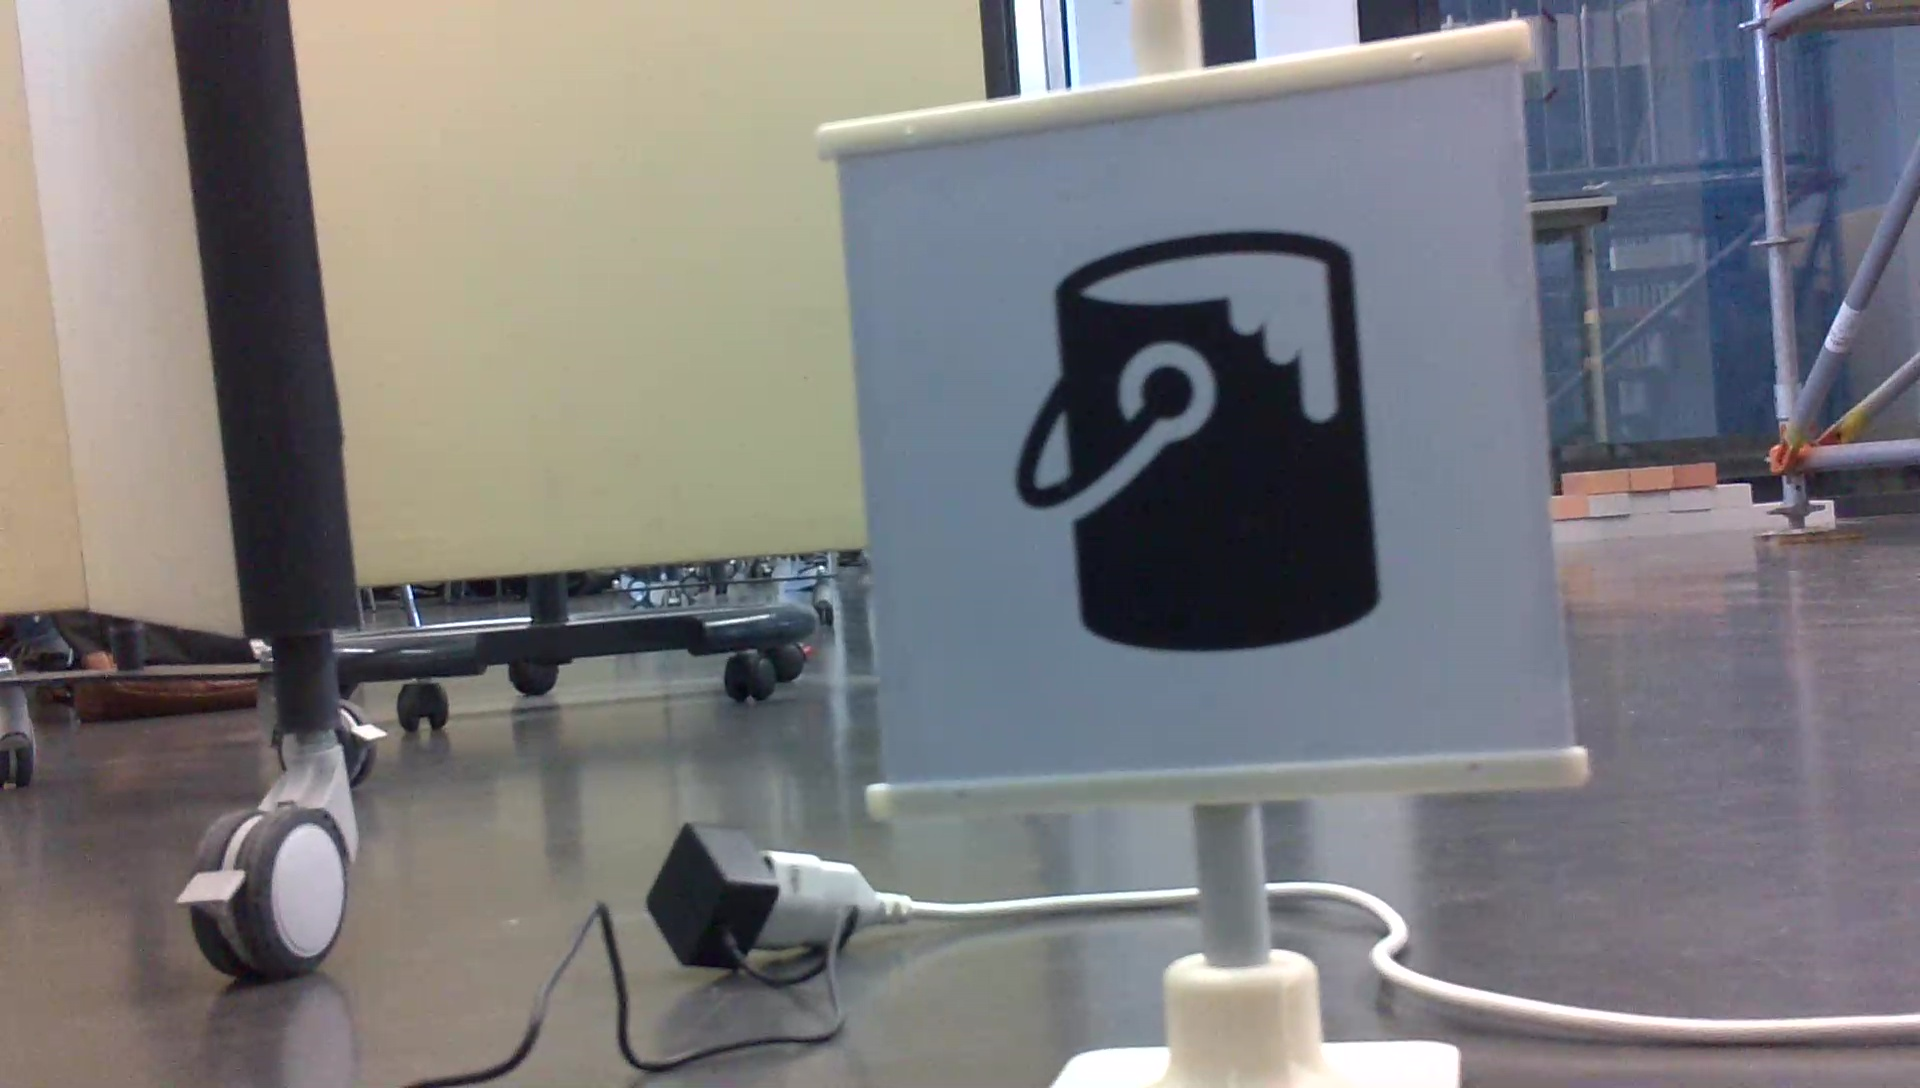bucket: (1005, 222, 1395, 666)
